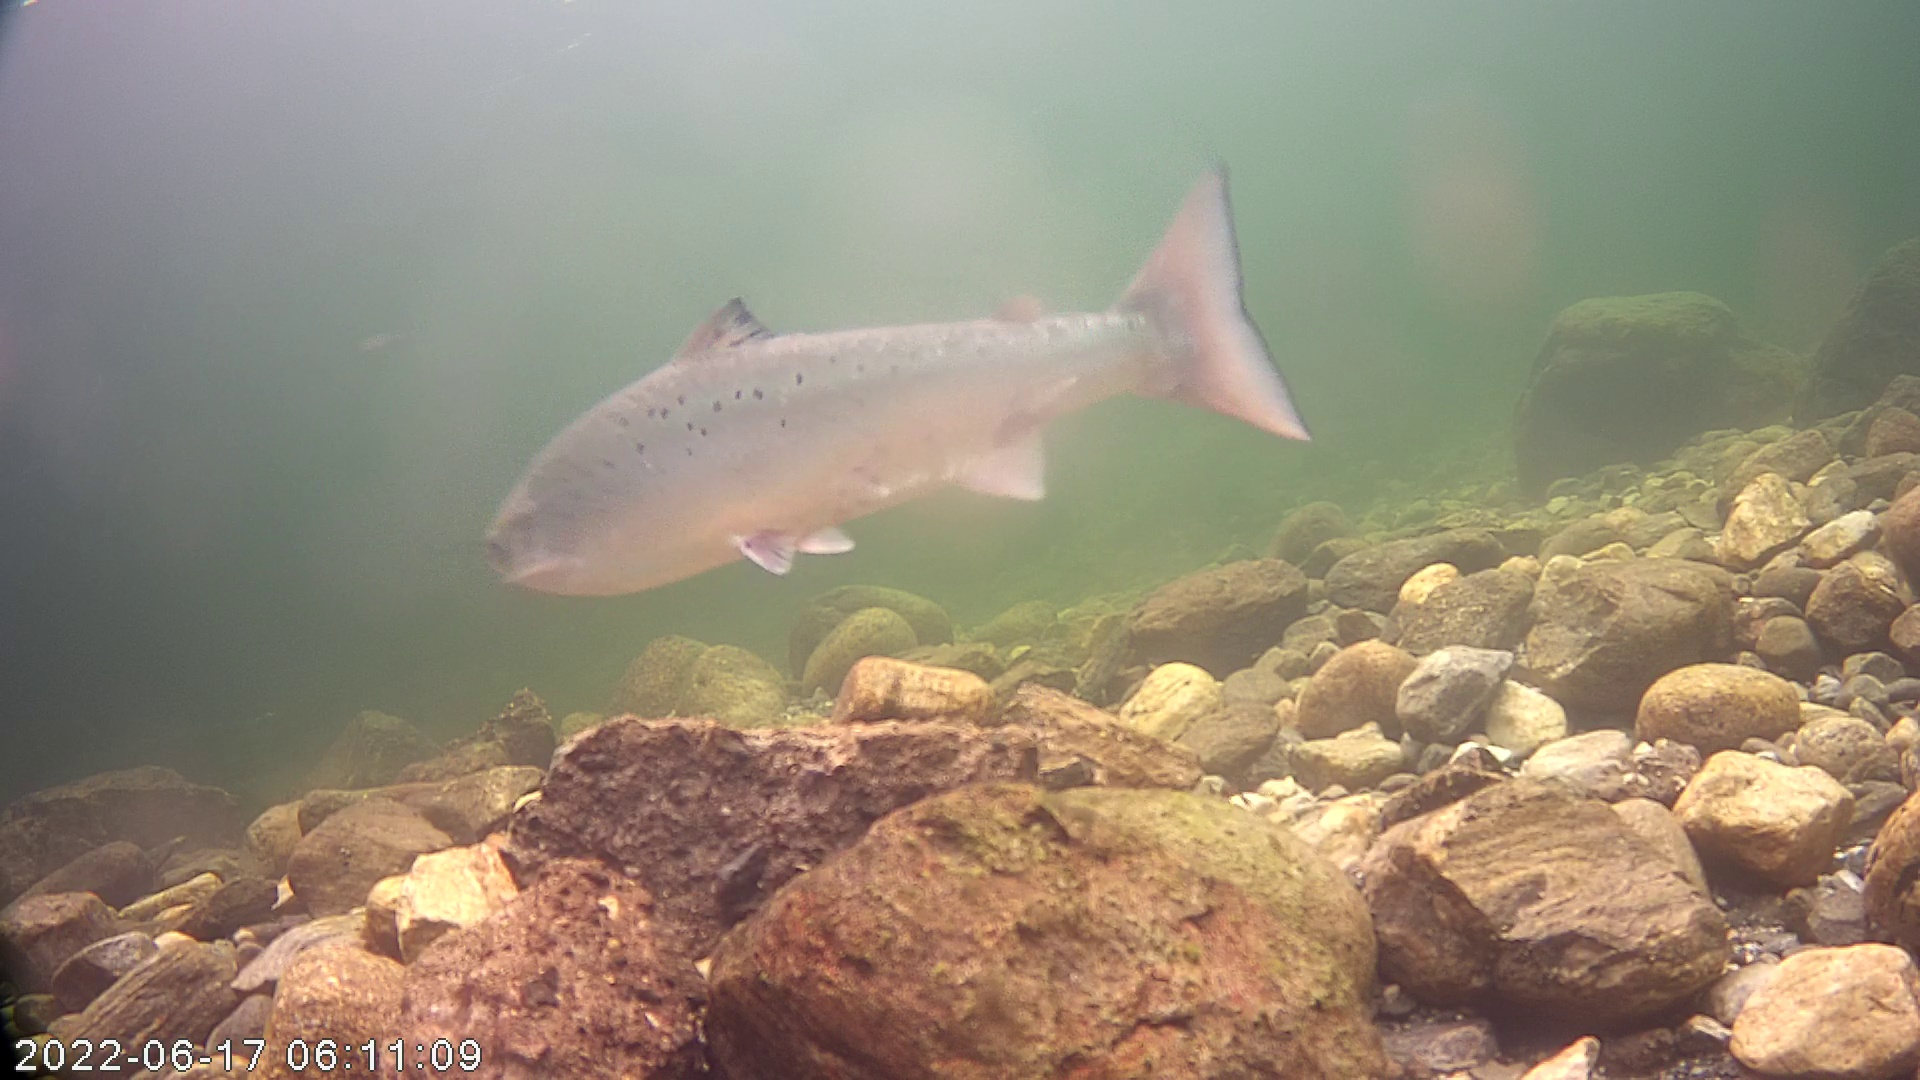salmon: (475, 152, 1315, 600)
